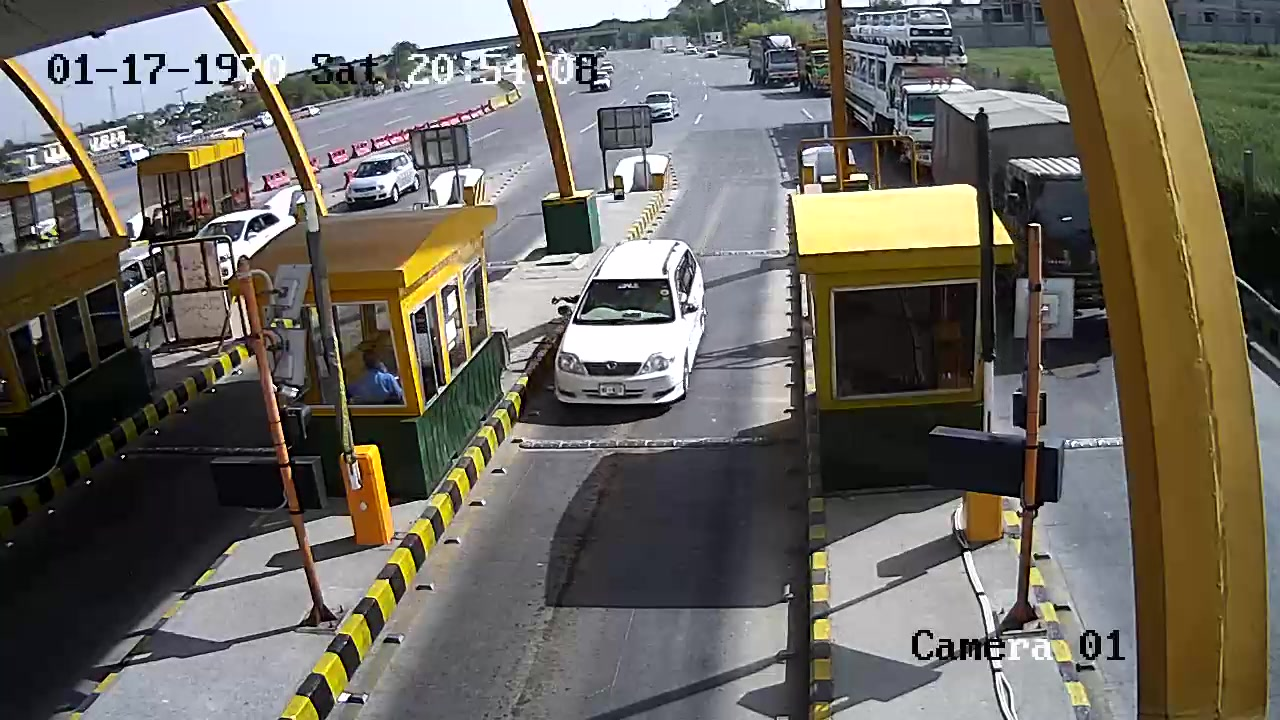F1: (551, 236, 713, 423)
